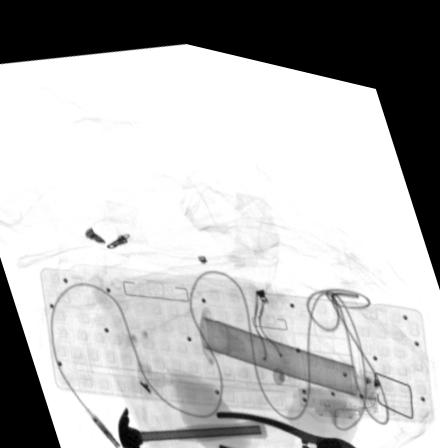Hammer: (117, 400, 267, 448)
Pliers: (213, 397, 357, 448)
